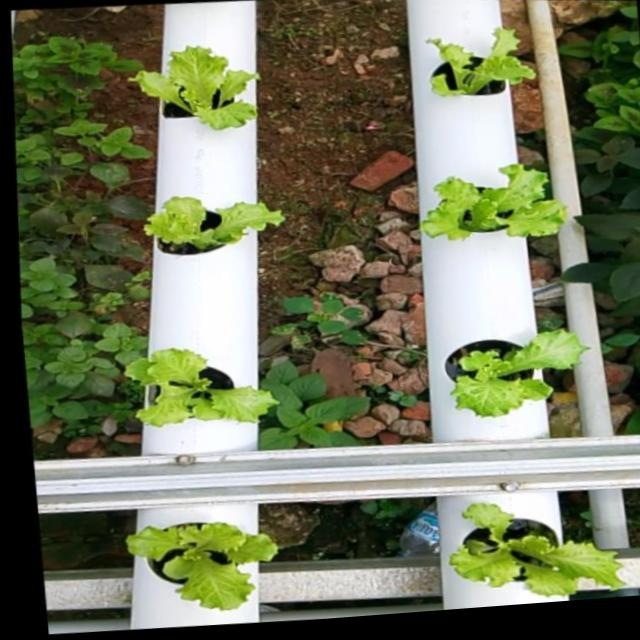Baby: (457, 496, 634, 589), (132, 502, 284, 607), (445, 328, 590, 417), (129, 345, 285, 424), (420, 162, 569, 238), (126, 45, 257, 129), (142, 196, 284, 255), (426, 26, 535, 95)
